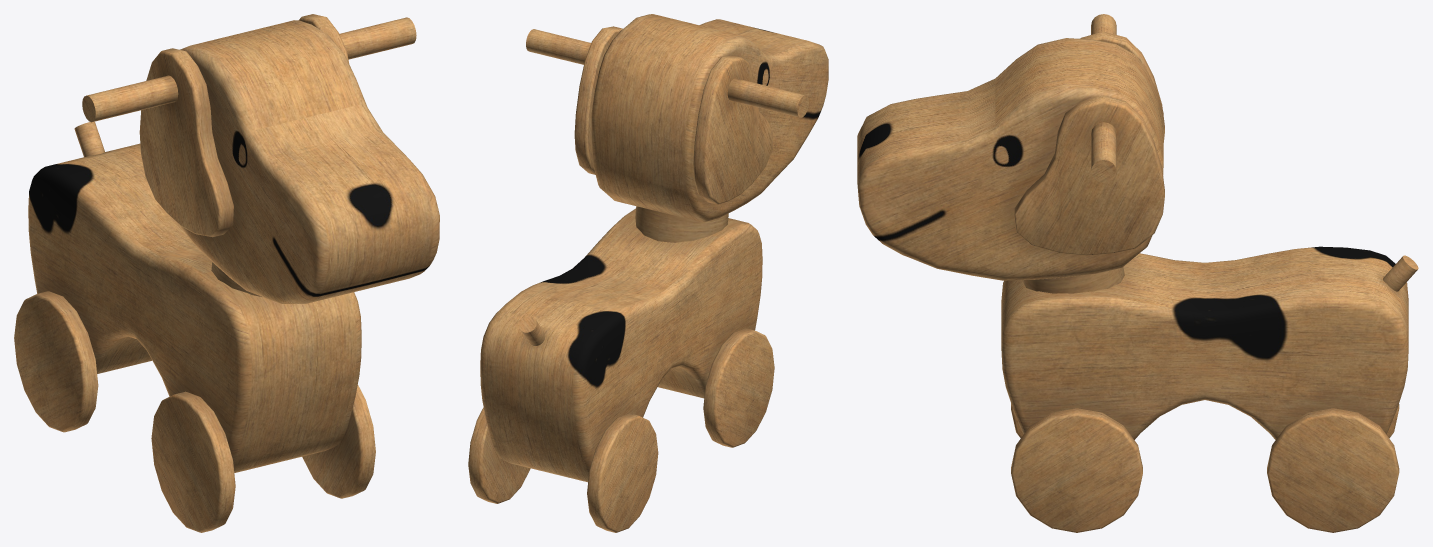
The model's file is dog_wood_toy_low_poly.glb.
3 views of the same model, side by side, from view 1: azimuth 30°, elevation 25°; view 2: azimuth 150°, elevation 25°; view 3: azimuth 270°, elevation 25° (orthographic). The views are drawn at different scales.
Visible parts, largest first — view 1: Cube.003, Cube.004, Cylinder.006, Cylinder.008, Cylinder.009, Cylinder.010; view 2: Cube.003, Cube.004, Cylinder.006, Cylinder.008, Cylinder.009, Cylinder.007, Cylinder.010; view 3: Cube.003, Cube.004, Cylinder.006, Cylinder.008, Cylinder.009, Cylinder.007, Cylinder.010.
Boxes of the visible parts, <box> form: Cube.003: <box>28,143,361,472</box>; Cube.004: <box>180,20,439,303</box>; Cylinder.006: <box>14,291,375,532</box>; Cylinder.008: <box>139,14,349,237</box>; Cylinder.009: <box>82,17,416,122</box>; Cylinder.010: <box>74,121,104,156</box>; Cube.003: <box>480,208,762,482</box>; Cube.004: <box>591,14,828,222</box>; Cylinder.006: <box>468,328,774,532</box>; Cylinder.008: <box>574,26,772,204</box>; Cylinder.009: <box>526,29,808,117</box>; Cylinder.007: <box>635,206,728,242</box>; Cylinder.010: <box>519,316,545,345</box>; Cube.003: <box>1001,246,1408,439</box>; Cube.004: <box>857,38,1163,280</box>; Cylinder.006: <box>1011,403,1399,532</box>; Cylinder.008: <box>1014,31,1164,255</box>; Cylinder.009: <box>1091,14,1116,182</box>; Cylinder.007: <box>1022,267,1124,293</box>; Cylinder.010: <box>1383,255,1418,291</box>.
Size of the model in its own units: 4.76 by 6.64 by 7.74.
Materials: 1 (1 with a texture image).
